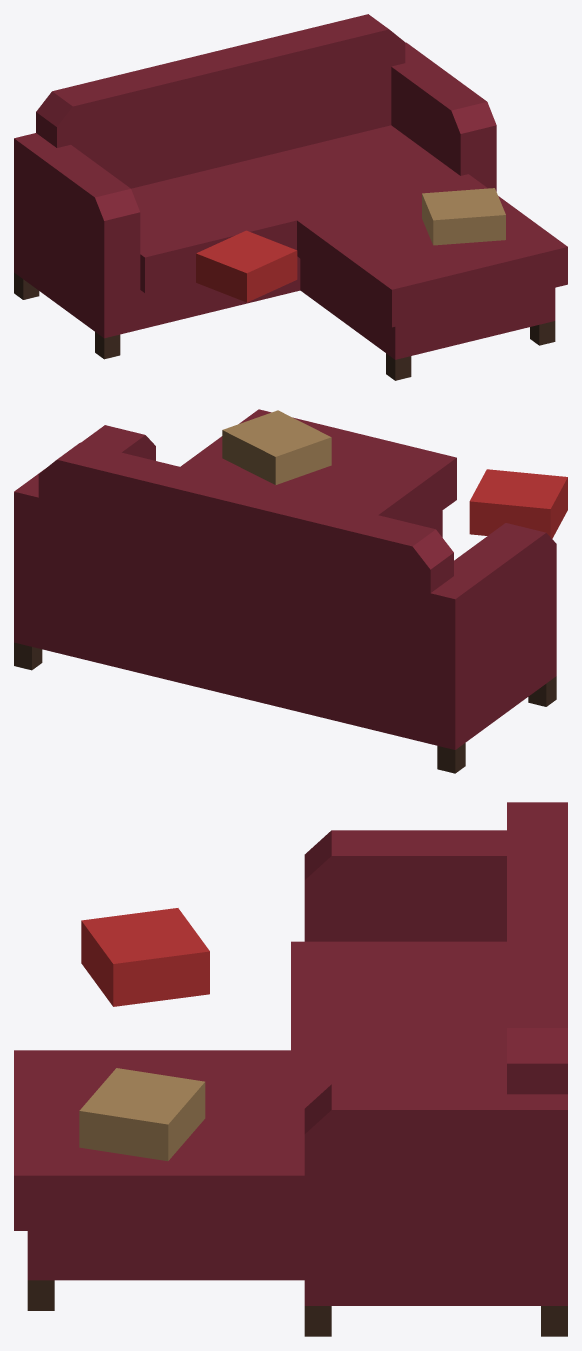
File: loungeSofaLong.glb
The picture shows the model from 3 angles, top to bottom: view 1: azimuth 30°, elevation 25°; view 2: azimuth 150°, elevation 25°; view 3: azimuth 270°, elevation 25°; orthographic projection. The views are drawn at different scales.
Visible parts, largest first — view 1: loungeSofaLong(Clone); view 2: loungeSofaLong(Clone); view 3: loungeSofaLong(Clone).
Boxes of the visible parts, box(x1,y1,x2,y2) form: loungeSofaLong(Clone): box(14, 14, 567, 380); loungeSofaLong(Clone): box(14, 409, 567, 773); loungeSofaLong(Clone): box(14, 802, 567, 1336).
Size of the model in its own units: 0.98 by 0.46 by 0.82.
